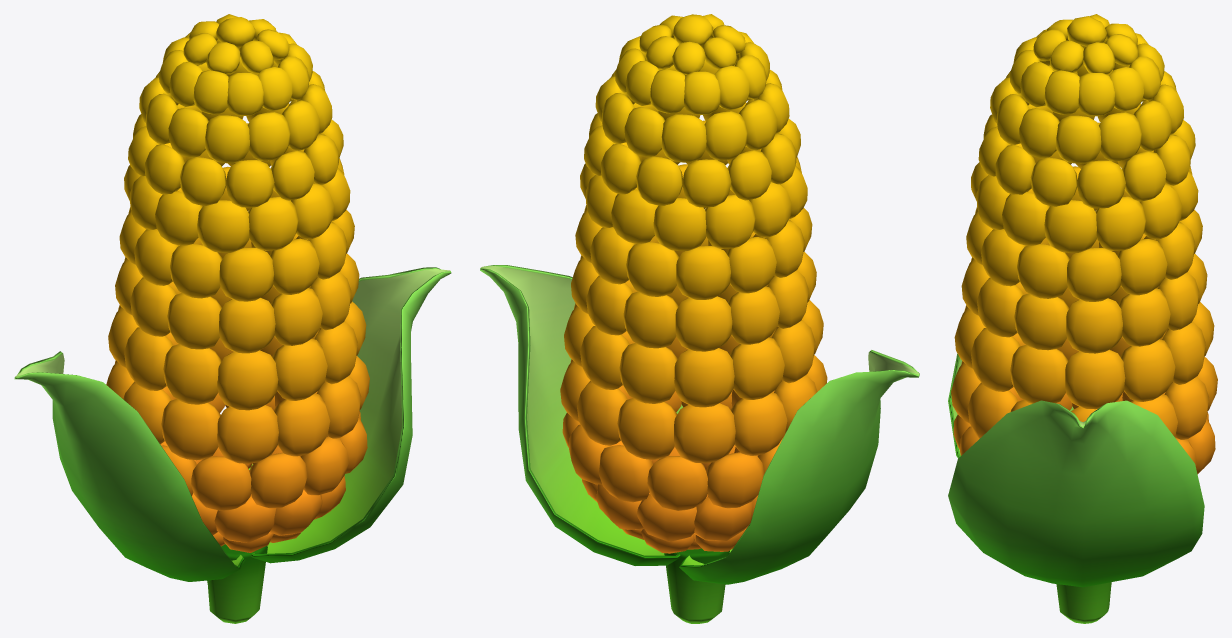
File: level_172.fbx
3 views of the same model, side by side, from view 1: azimuth 30°, elevation 25°; view 2: azimuth 150°, elevation 25°; view 3: azimuth 270°, elevation 25° (orthographic).
Visible parts, largest first — view 1: Cube_L2_2.001, Cube_L2.001, Cube_L1_92.001, Cube_L1_93.001, Cube_L2_1.001, Cube_L1_122, Cube_L1_119, Cube_L1_108, Cube_L1_59.001, Cube_L1_91.001, Cube_L1_60.001, Cube_L1_77.001 (+50 smaller); view 2: Cube_L2_2.001, Cube_L2.001, Cube_L1_105, Cube_L1_103, Cube_L2_1.001, Cube_L1_74.001, Cube_L1_73.001, Cube_L1_128, Cube_L1_90.001, Cube_L1_102, Cube_L1_126, Cube_L1_117 (+51 smaller); view 3: Cube_L2.001, Cube_L1_2.001, Cube_L1_7.001, Cube_L1_3.001, Cube_L1_14.001, Cube_L1_10.001, Cube_L1_6.001, Cube_L1_12.001, Cube_L1_18.001, Cube_L1_8.001, Cube_L1_30.001, Cube_L1_20.001 (+51 smaller).
Part boxes in pixels (x1,y1,x2,y2): Cube_L2_2.001: (14,351,245,581); Cube_L2.001: (248,267,451,563); Cube_L1_92.001: (217,350,278,410); Cube_L1_93.001: (217,405,278,463); Cube_L2_1.001: (207,544,267,623); Cube_L1_122: (161,399,220,460); Cube_L1_119: (163,344,221,404); Cube_L1_108: (191,456,251,510); Cube_L1_59.001: (274,393,330,456); Cube_L1_91.001: (219,298,275,353); Cube_L1_60.001: (272,338,327,400); Cube_L1_77.001: (249,452,307,508); Cube_L2_2.001: (679,350,919,584); Cube_L2.001: (480,265,683,565); Cube_L1_105: (674,403,735,463); Cube_L1_103: (674,348,734,407); Cube_L2_1.001: (664,548,729,623); Cube_L1_74.001: (617,398,677,459); Cube_L1_73.001: (619,343,677,403); Cube_L1_128: (730,392,787,455); Cube_L1_90.001: (647,456,707,510); Cube_L1_102: (675,296,732,351); Cube_L1_126: (729,337,784,399); Cube_L1_117: (706,452,764,508); Cube_L2.001: (948,400,1204,587); Cube_L1_2.001: (1065,349,1125,409); Cube_L1_7.001: (1010,344,1068,403); Cube_L1_3.001: (1066,298,1122,353); Cube_L1_14.001: (1120,339,1175,401); Cube_L1_10.001: (1014,293,1069,350); Cube_L1_6.001: (1067,247,1121,301); Cube_L1_12.001: (1017,244,1069,298); Cube_L1_18.001: (1118,288,1170,346); Cube_L1_8.001: (1044,200,1096,252); Cube_L1_30.001: (971,328,1020,391); Cube_L1_20.001: (1117,239,1167,295).
Bounding box in the file's own units: 11.43 × 14.98 × 6.1.
